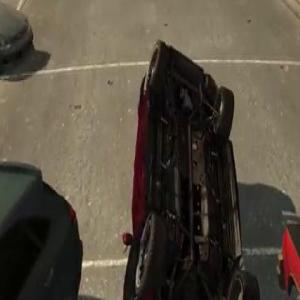severe: (120, 35, 264, 300)
